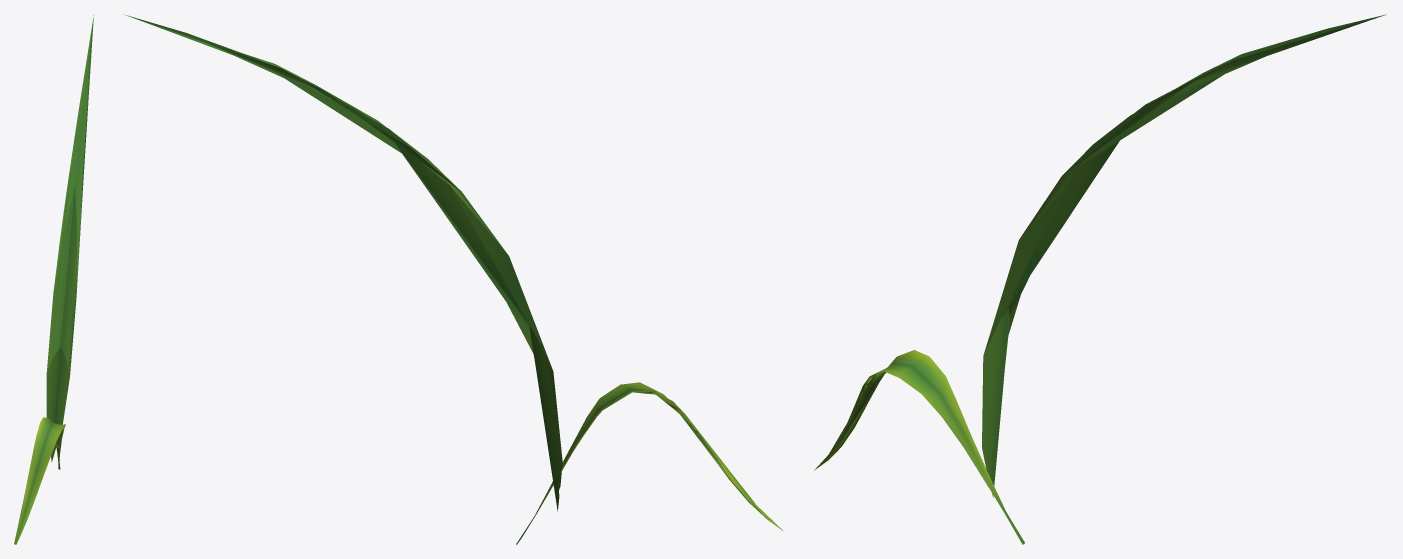
Rendered from sugar tree.fbx.
3 views of the same model, side by side, from view 1: azimuth 30°, elevation 25°; view 2: azimuth 150°, elevation 25°; view 3: azimuth 270°, elevation 25° (orthographic). The views are drawn at different scales.
Visible parts, largest first — view 1: polySurface17, polySurface10; view 2: polySurface17, polySurface10; view 3: polySurface17, polySurface10.
Boxes of the visible parts, x1,y1,x2,y2 form: polySurface17: [46, 15, 93, 462]; polySurface10: [14, 417, 65, 544]; polySurface17: [125, 15, 562, 511]; polySurface10: [516, 382, 783, 544]; polySurface17: [982, 14, 1386, 497]; polySurface10: [814, 350, 1024, 544].
Size of the model in its own units: 12.67 by 18.62 by 14.54.
Materials: 1 (1 with a texture image).
